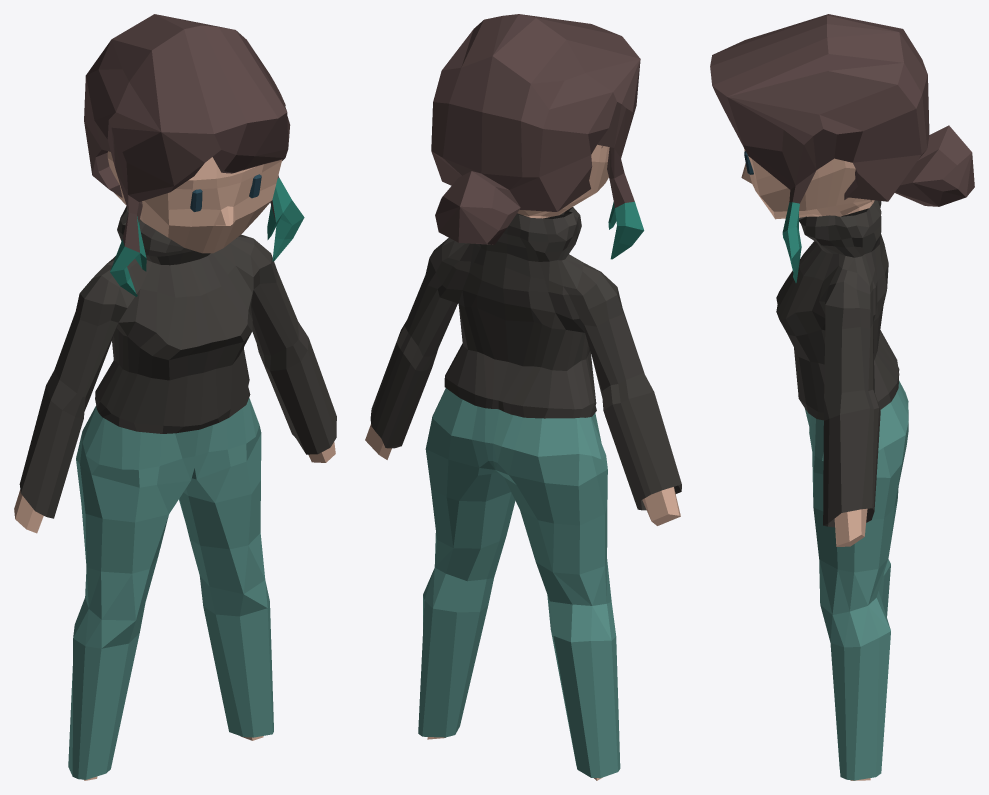
Rendered from liskov_final_fixedGeometry final ноги.fbx.
3 views of the same model, side by side, from view 1: azimuth 30°, elevation 25°; view 2: azimuth 150°, elevation 25°; view 3: azimuth 270°, elevation 25° (orthographic). The views are drawn at different scales.
Parts seen in each view (by area): view 1: Тело, Волосы; view 2: Тело, Волосы; view 3: Тело, Волосы.
Boxes of the visible parts, x1=… form: Тело: x1=14, y1=151, x2=336, y2=780; Волосы: x1=84, y1=14, x2=304, y2=296; Тело: x1=365, y1=144, x2=681, y2=780; Волосы: x1=431, y1=14, x2=644, y2=259; Тело: x1=741, y1=148, x2=908, y2=780; Волосы: x1=710, y1=14, x2=974, y2=282.
Size of the model in its own units: 92.81 by 206 by 68.29.
